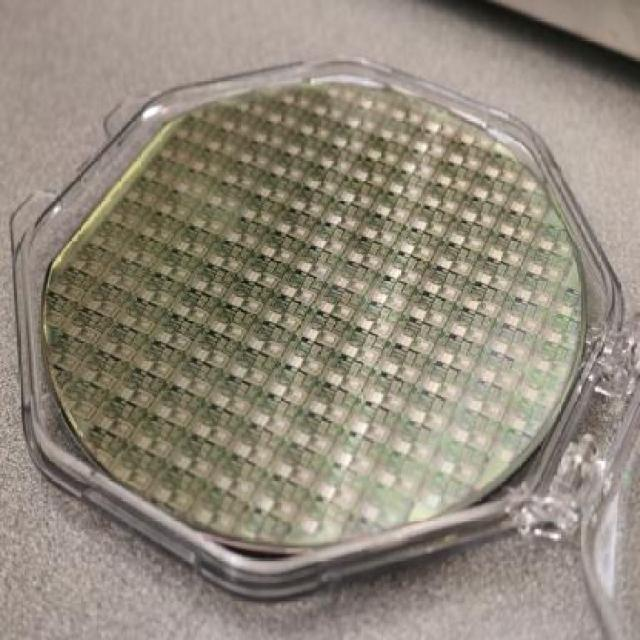Wafer: (12, 55, 640, 640)
